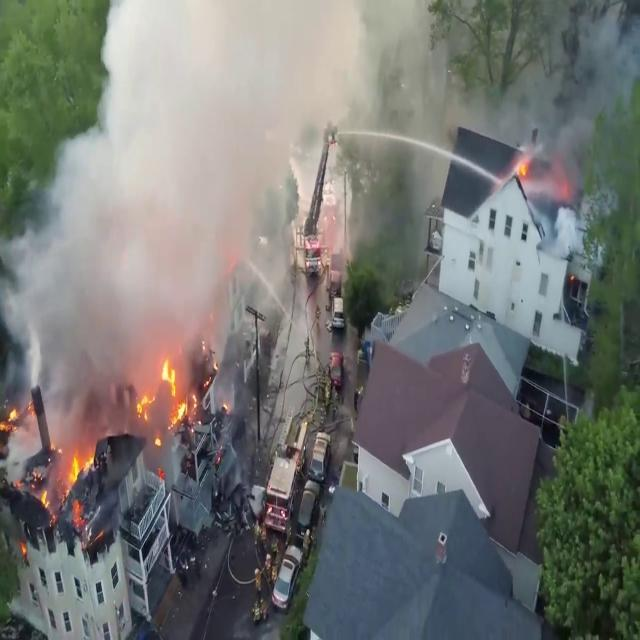Fire: (134, 354, 197, 438), (63, 438, 99, 518)
Smoke: (2, 0, 467, 374), (513, 1, 640, 342)
